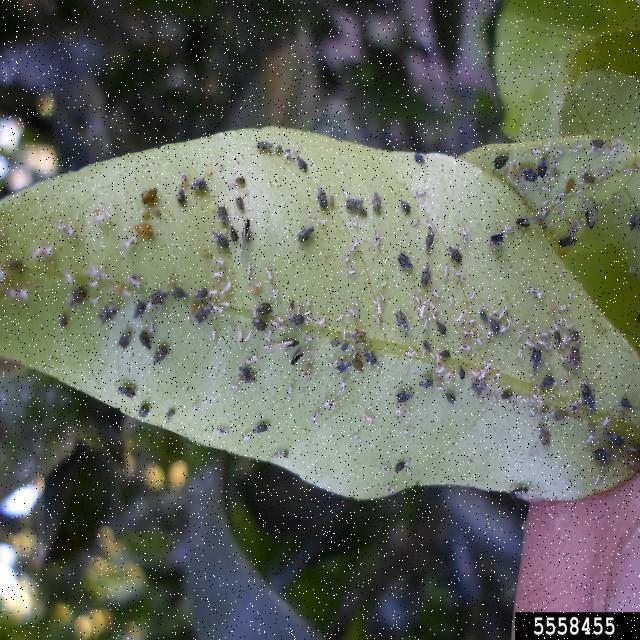Aphids: (179, 100, 398, 308), (410, 91, 597, 315), (45, 159, 141, 308)
